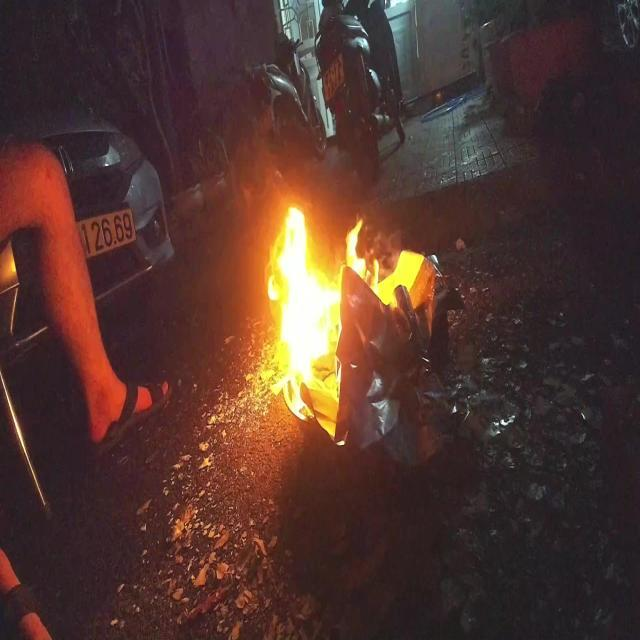Fire: (266, 202, 434, 444)
